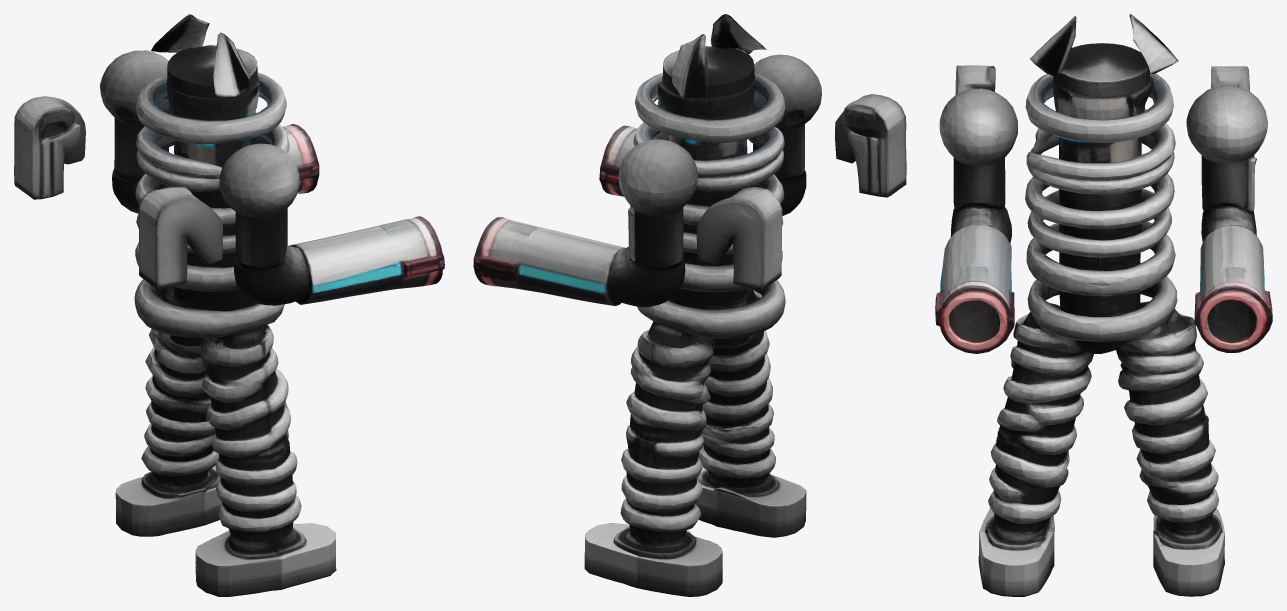
File: coilspine.glb
The picture shows the model from 3 angles, left to right: view 1: azimuth 30°, elevation 25°; view 2: azimuth 150°, elevation 25°; view 3: azimuth 270°, elevation 25°; orthographic projection. The views are drawn at different scales.
Parts seen in each view (by area): view 1: world; view 2: world; view 3: world.
Part boxes in pixels (left/top/right/bottom): world: left=14, top=14, right=444, bottom=596; world: left=473, top=14, right=906, bottom=596; world: left=935, top=14, right=1272, bottom=596.
Size of the model in its own units: 0.5603 by 1 by 0.5667.
1 material, 1 textured.
